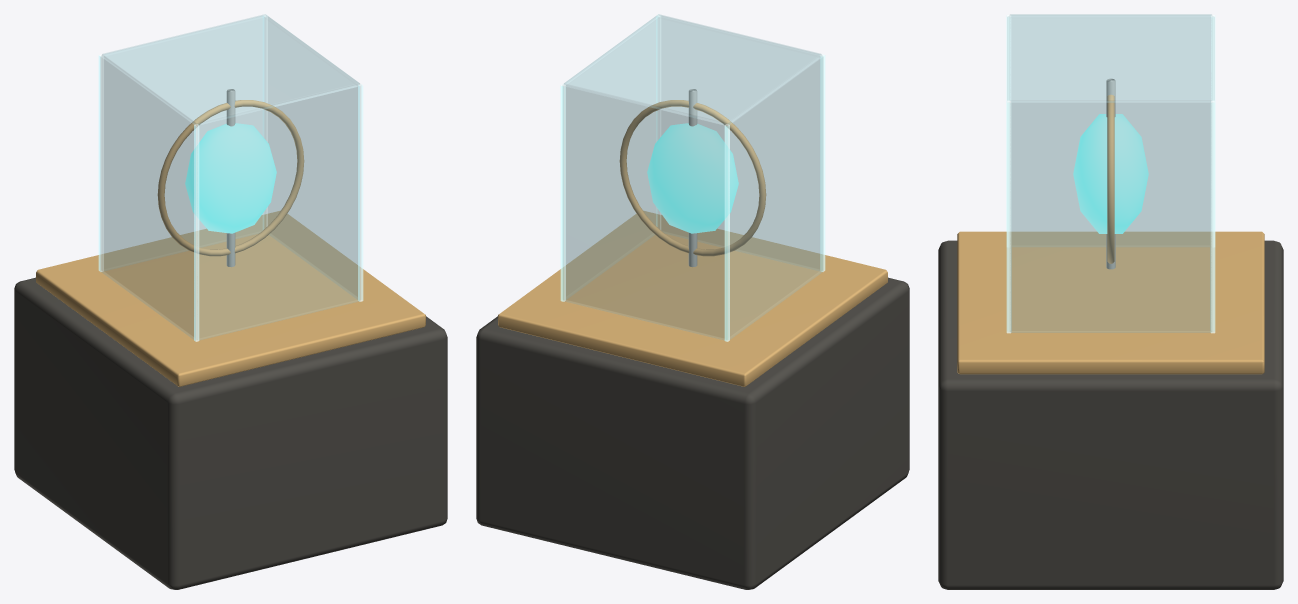
File: hp_furniture_specimen_plinth_combo_v1.glb
3 renders of one model, left to right at view 1: azimuth 30°, elevation 25°; view 2: azimuth 150°, elevation 25°; view 3: azimuth 270°, elevation 25°, orthographic. The views are drawn at different scales.
Parts seen in each view (by area): view 1: black_square_plinth, brass_top_lip, glass_front_panel.002, glass_back_panel.002, glass_left_panel.002, glass_right_panel.002, glass_top_panel.002, abstract_specimen_core, brass_specimen_orbit, glass_vertical_edge_glint.008, glass_vertical_edge_glint.010, glass_vertical_edge_glint.009 (+1 smaller); view 2: black_square_plinth, brass_top_lip, glass_back_panel.002, glass_front_panel.002, glass_left_panel.002, glass_right_panel.002, glass_top_panel.002, abstract_specimen_core, brass_specimen_orbit, glass_vertical_edge_glint.009, glass_vertical_edge_glint.011, glass_vertical_edge_glint.008 (+1 smaller); view 3: black_square_plinth, glass_right_panel.002, brass_top_lip, glass_left_panel.002, glass_top_panel.002, abstract_specimen_core, glass_vertical_edge_glint.010, glass_vertical_edge_glint.011, brass_specimen_orbit, glass_vertical_edge_glint.008, glass_vertical_edge_glint.009.
Boxes of the visible parts, left/top/right/bottom form: black_square_plinth: left=14, top=277, right=447, bottom=589; brass_top_lip: left=36, top=211, right=425, bottom=386; glass_front_panel.002: left=197, top=85, right=360, bottom=340; glass_back_panel.002: left=101, top=16, right=262, bottom=270; glass_left_panel.002: left=100, top=56, right=195, bottom=339; glass_right_panel.002: left=268, top=17, right=360, bottom=299; glass_top_panel.002: left=102, top=14, right=359, bottom=124; abstract_specimen_core: left=185, top=123, right=276, bottom=233; brass_specimen_orbit: left=157, top=100, right=304, bottom=256; glass_vertical_edge_glint.008: left=194, top=124, right=199, bottom=341; glass_vertical_edge_glint.010: left=358, top=84, right=363, bottom=301; glass_vertical_edge_glint.009: left=98, top=54, right=103, bottom=271; black_square_plinth: left=476, top=277, right=909, bottom=589; brass_top_lip: left=498, top=211, right=887, bottom=386; glass_back_panel.002: left=563, top=85, right=726, bottom=340; glass_front_panel.002: left=661, top=16, right=822, bottom=270; glass_left_panel.002: left=728, top=56, right=823, bottom=339; glass_right_panel.002: left=563, top=17, right=655, bottom=299; glass_top_panel.002: left=564, top=14, right=821, bottom=124; abstract_specimen_core: left=647, top=123, right=738, bottom=233; brass_specimen_orbit: left=619, top=100, right=766, bottom=256; glass_vertical_edge_glint.009: left=724, top=124, right=729, bottom=341; glass_vertical_edge_glint.011: left=560, top=84, right=565, bottom=301; glass_vertical_edge_glint.008: left=820, top=54, right=825, bottom=271; black_square_plinth: left=938, top=240, right=1283, bottom=589; glass_right_panel.002: left=1010, top=101, right=1211, bottom=332; brass_top_lip: left=957, top=231, right=1264, bottom=374; glass_left_panel.002: left=1011, top=15, right=1210, bottom=246; glass_top_panel.002: left=1010, top=14, right=1211, bottom=102; abstract_specimen_core: left=1073, top=114, right=1148, bottom=233; glass_vertical_edge_glint.010: left=1006, top=100, right=1011, bottom=333; glass_vertical_edge_glint.011: left=1210, top=100, right=1215, bottom=333; brass_specimen_orbit: left=1107, top=95, right=1114, bottom=263; glass_vertical_edge_glint.008: left=1006, top=15, right=1010, bottom=246; glass_vertical_edge_glint.009: left=1211, top=15, right=1215, bottom=246.
Bounding box in the file's own units: 0.92 × 1.37 × 0.92.
